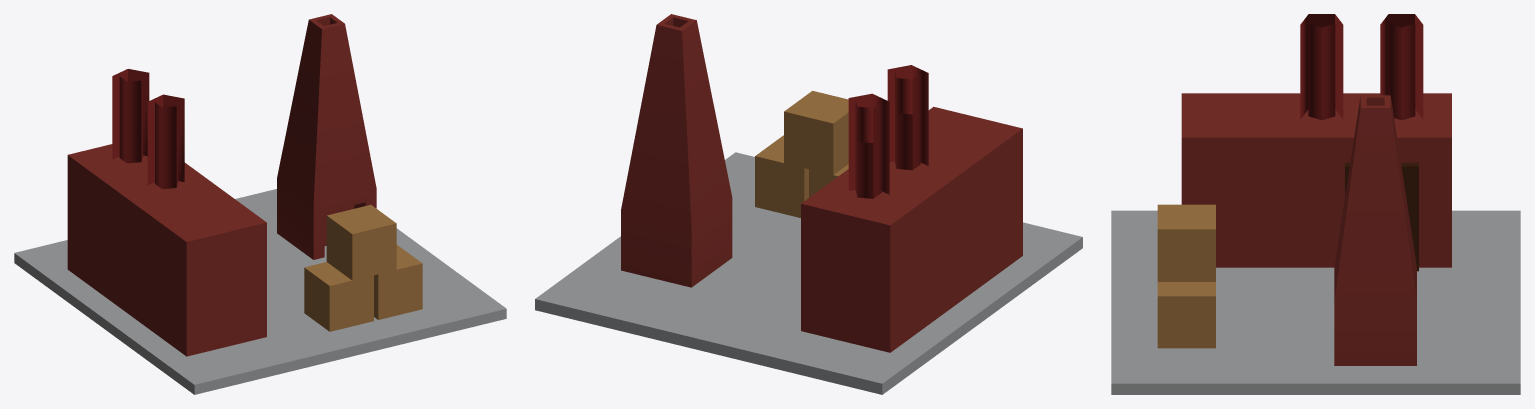
The model's file is factory.obj.
3 views of the same model, side by side, from view 1: azimuth 30°, elevation 25°; view 2: azimuth 150°, elevation 25°; view 3: azimuth 270°, elevation 25° (orthographic). The views are drawn at different scales.
Parts seen in each view (by area): view 1: Cube_6_Untitled.005; view 2: Cube_6_Untitled.005; view 3: Cube_6_Untitled.005.
Boxes of the visible parts, x1,y1,x2,y2 form: Cube_6_Untitled.005: (14, 14, 506, 394); Cube_6_Untitled.005: (535, 14, 1082, 394); Cube_6_Untitled.005: (1111, 14, 1520, 394).
Bounding box in the file's own units: 2 × 1.39 × 2.
